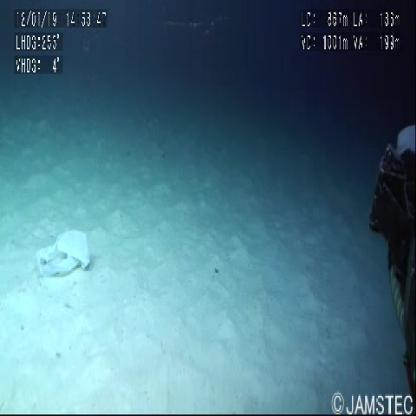Rác: (36, 232, 90, 280)
